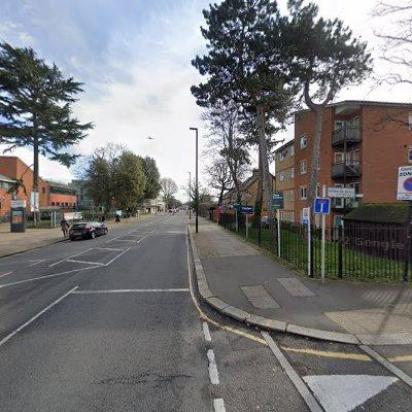stationary-car-onstreet: (68, 221, 108, 240)
